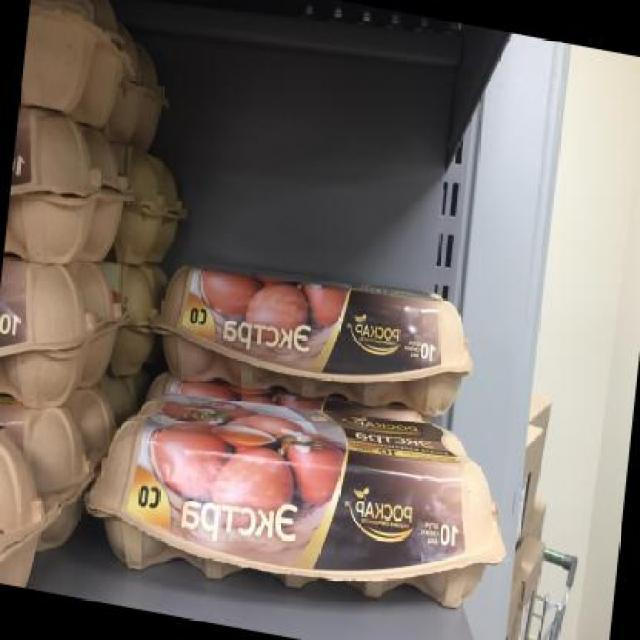egg: (83, 358, 519, 634), (146, 240, 486, 434), (3, 97, 102, 278), (0, 254, 83, 418), (0, 419, 60, 592), (20, 0, 103, 114)
